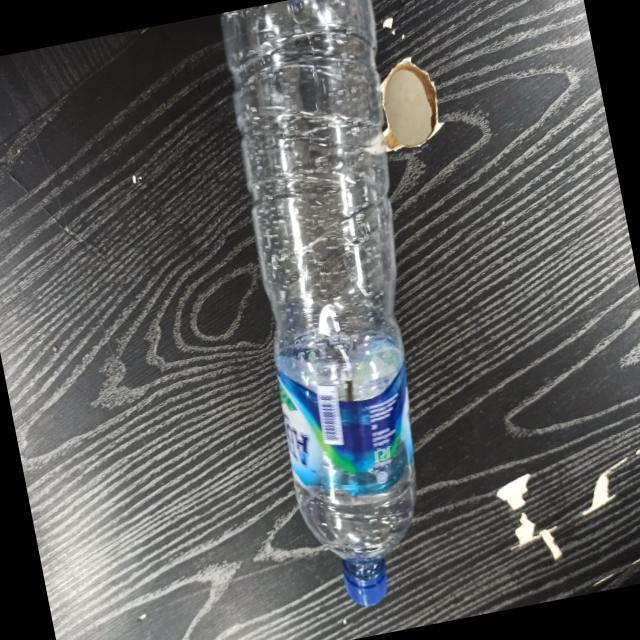BotolPlastik: (201, 0, 484, 618)
